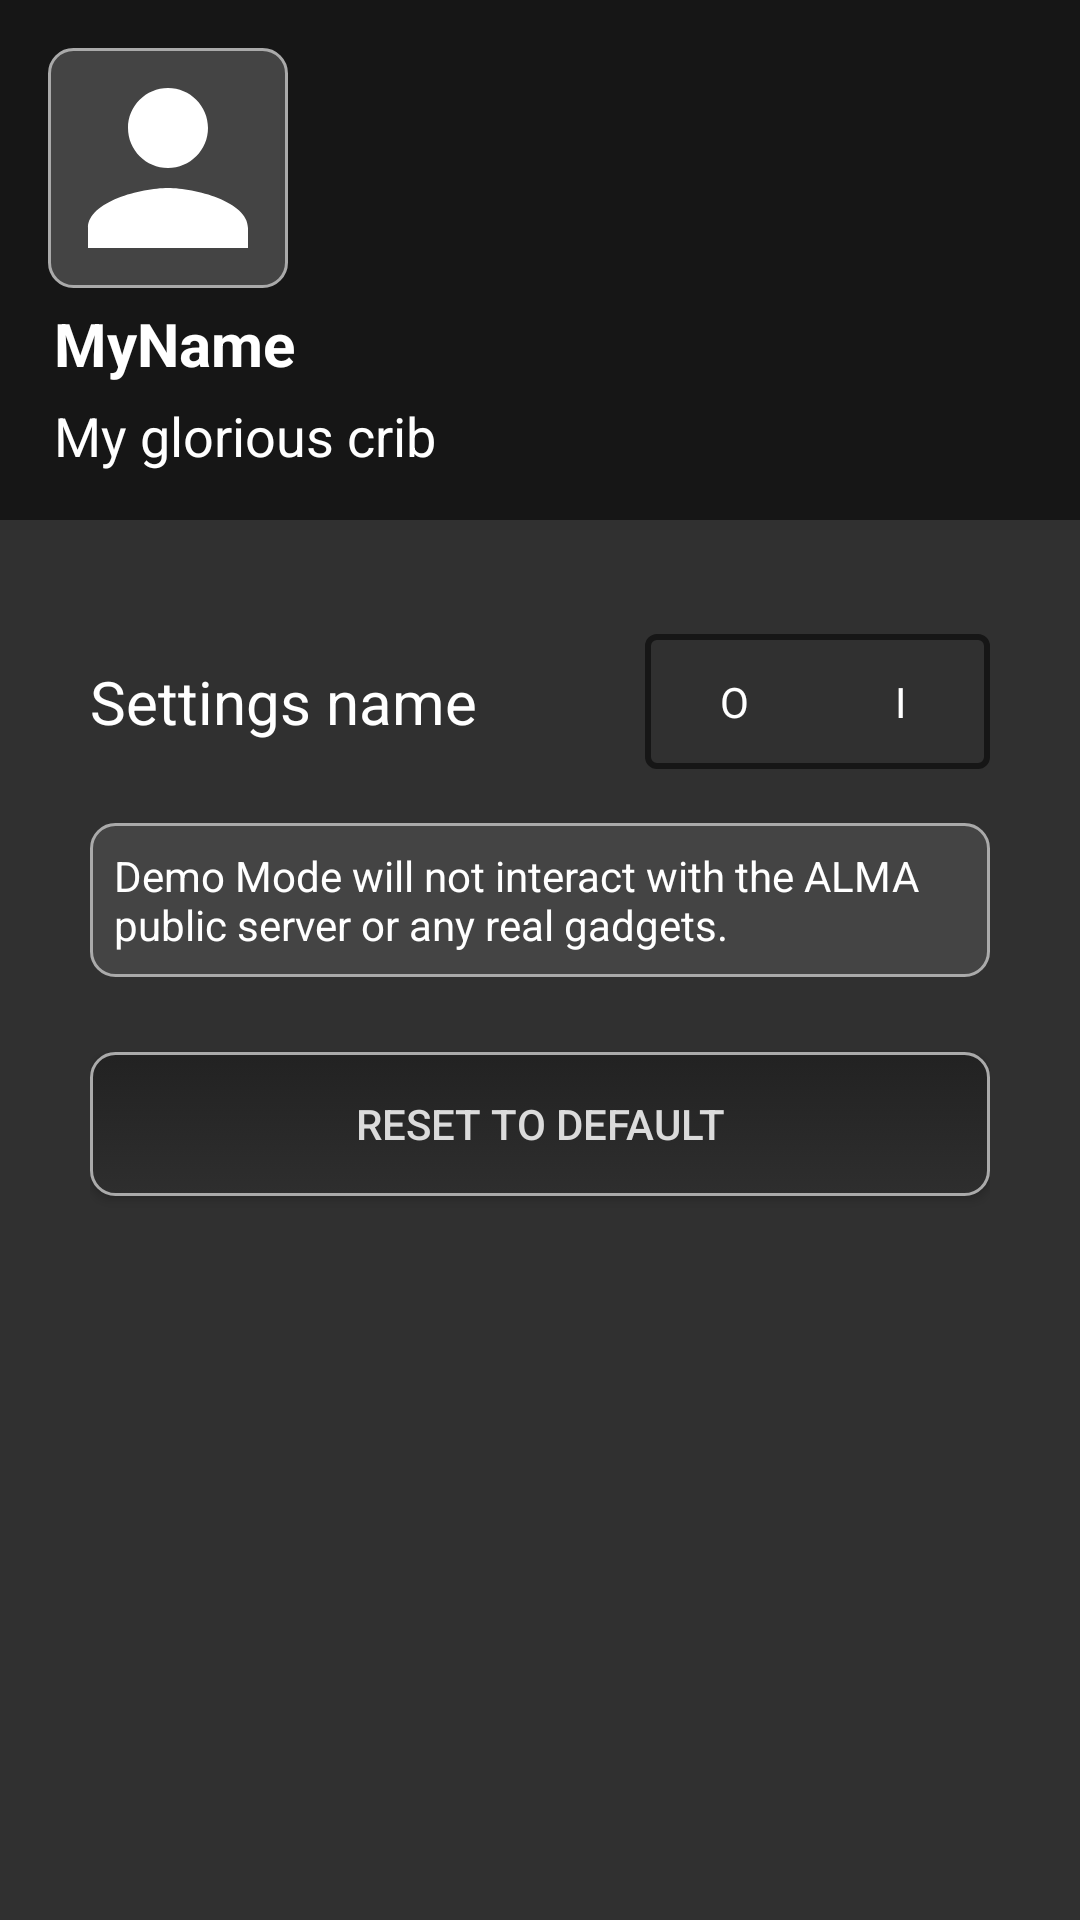

Locate icon controls on the screen. Image size 1080 x 1920, boxes as (x1, y1, x2, y2).
user: (48, 48, 288, 288)
